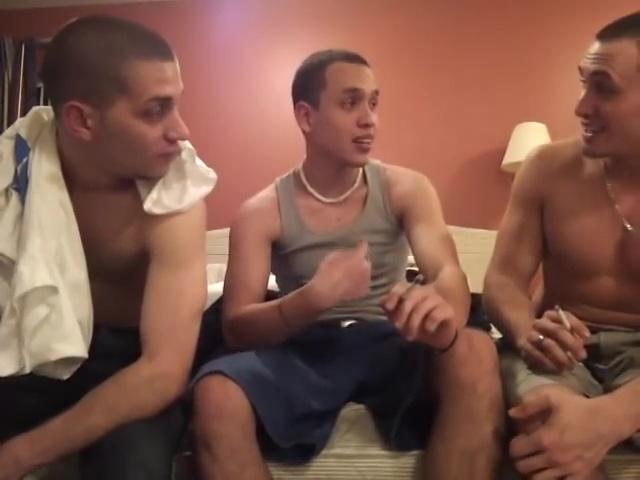cigarette: (394, 271, 427, 304), (554, 303, 576, 332)
